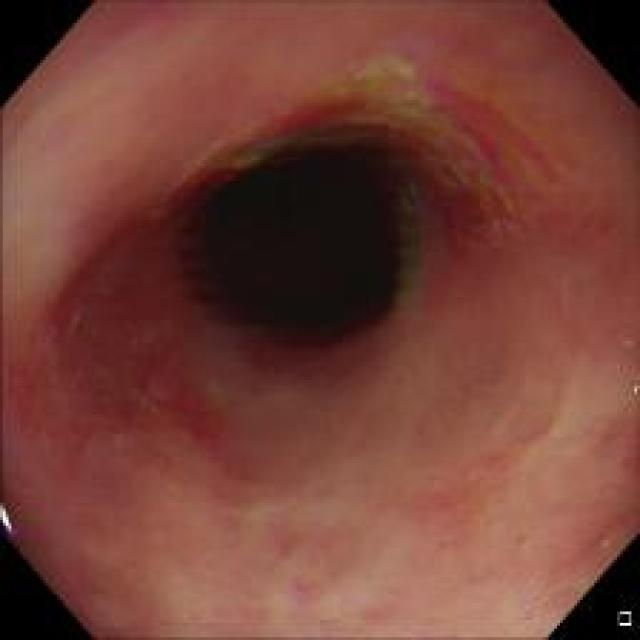color misalignment: (220, 51, 519, 246), (2, 500, 21, 542), (628, 379, 638, 405)
contrast: (170, 110, 426, 354)
